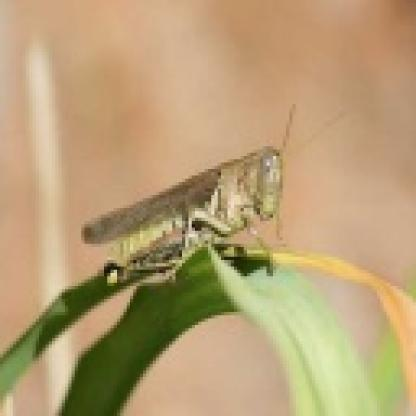grasshopper: (80, 136, 299, 282)
